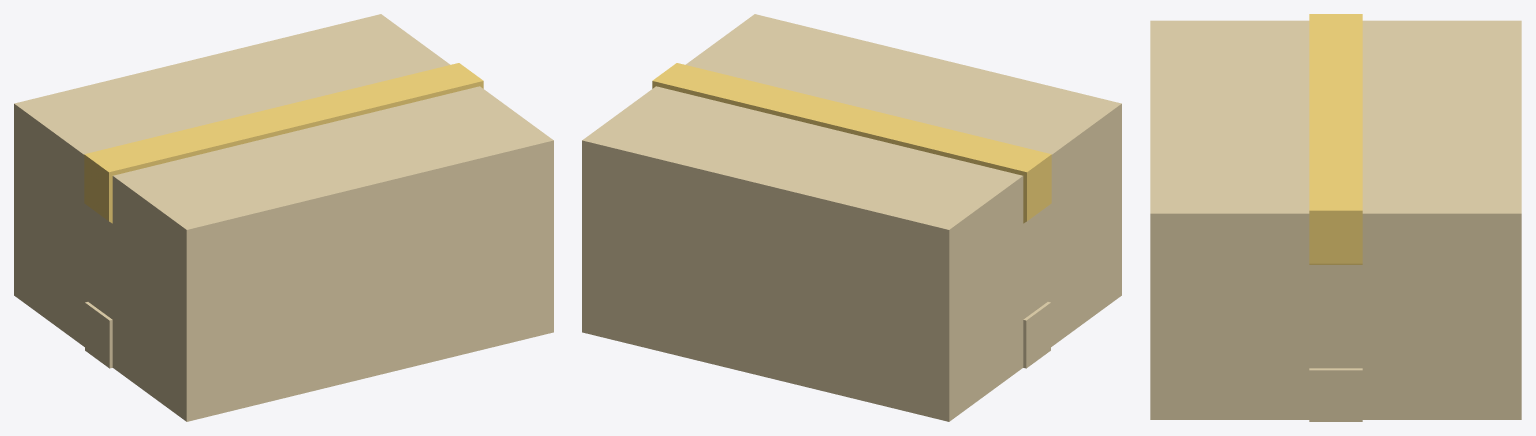
The picture shows the model from 3 angles, left to right: view 1: azimuth 30°, elevation 25°; view 2: azimuth 150°, elevation 25°; view 3: azimuth 270°, elevation 25°; orthographic projection. The views are drawn at different scales.
Visible parts, largest first — view 1: pCube4; view 2: pCube4; view 3: pCube4.
Part boxes in pixels (box(x1,y1,x2,y2)): pCube4: box(14, 14, 553, 421); pCube4: box(582, 14, 1121, 421); pCube4: box(1150, 14, 1521, 421).
Size of the model in its own units: 5.01 by 2.51 by 4.
